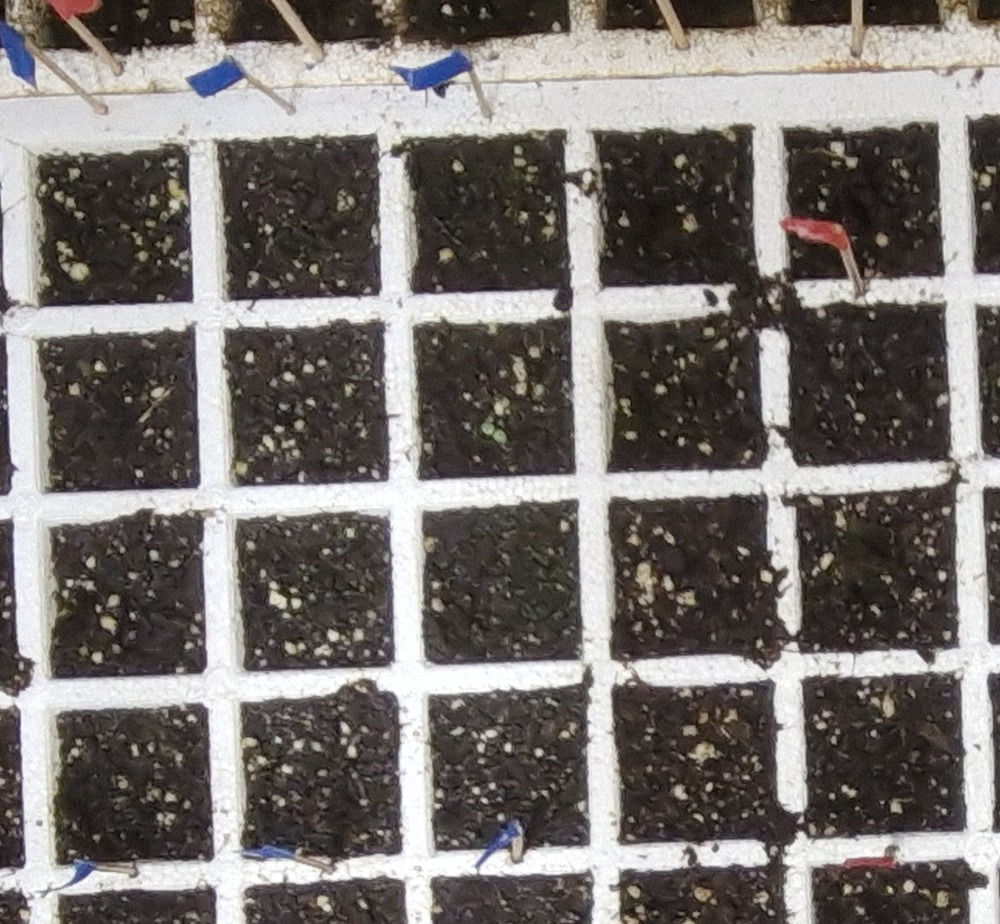Folha: (493, 430, 507, 443), (480, 423, 494, 435)
Germinacao: (482, 422, 507, 444)
